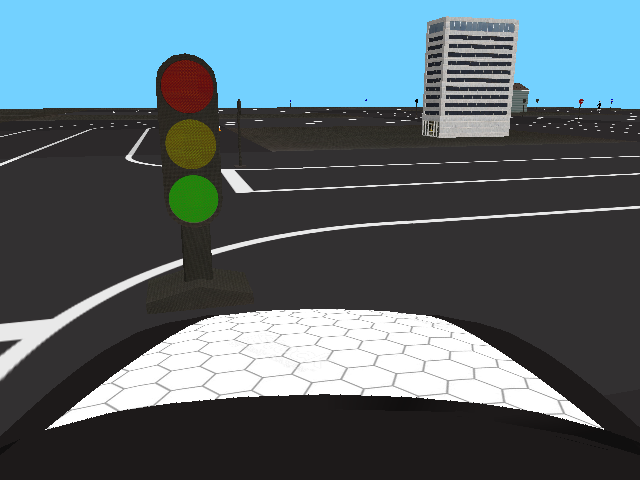red_light: (154, 52, 223, 227)
